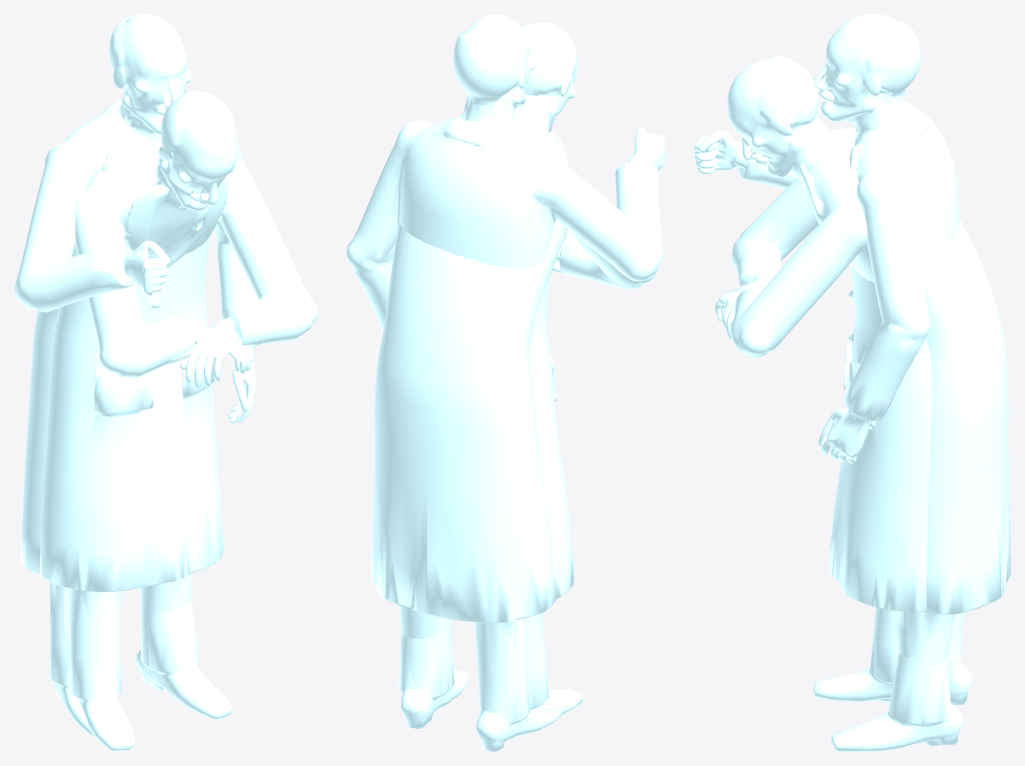
File: echo_strand_rail.glb
The picture shows the model from 3 angles, left to right: view 1: azimuth 30°, elevation 25°; view 2: azimuth 150°, elevation 25°; view 3: azimuth 270°, elevation 25°; orthographic projection. The views are drawn at different scales.
Visible parts, largest first — view 1: pose_offer, pose_rail; view 2: pose_rail, pose_offer; view 3: pose_offer, pose_rail.
Boxes of the visible parts, bbox=[...] form: pose_offer: bbox=[14, 14, 257, 751]; pose_rail: bbox=[20, 91, 317, 736]; pose_rail: bbox=[370, 22, 655, 751]; pose_offer: bbox=[346, 14, 665, 728]; pose_offer: bbox=[694, 14, 963, 751]; pose_rail: bbox=[714, 56, 1010, 751].
Bounding box in the file's own units: 0.7099 × 1.73 × 0.7023.
